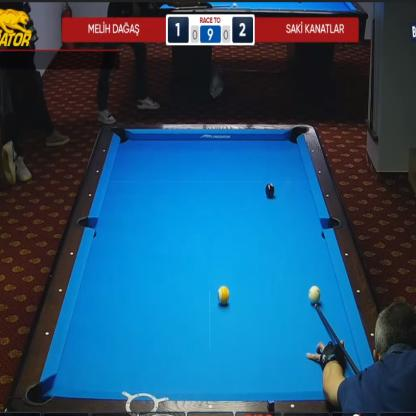Ball: (217, 286, 230, 306), (309, 284, 320, 306), (265, 183, 275, 198)
